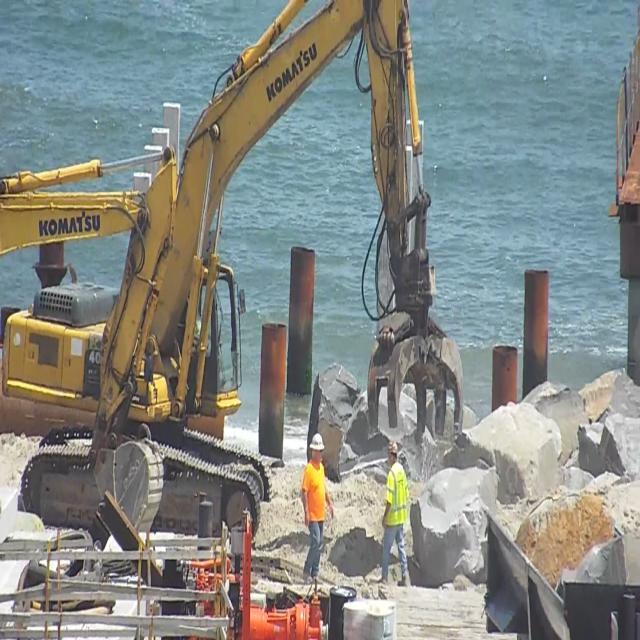machinery: (4, 0, 467, 544)
worker: (304, 432, 330, 586), (384, 441, 410, 590)
